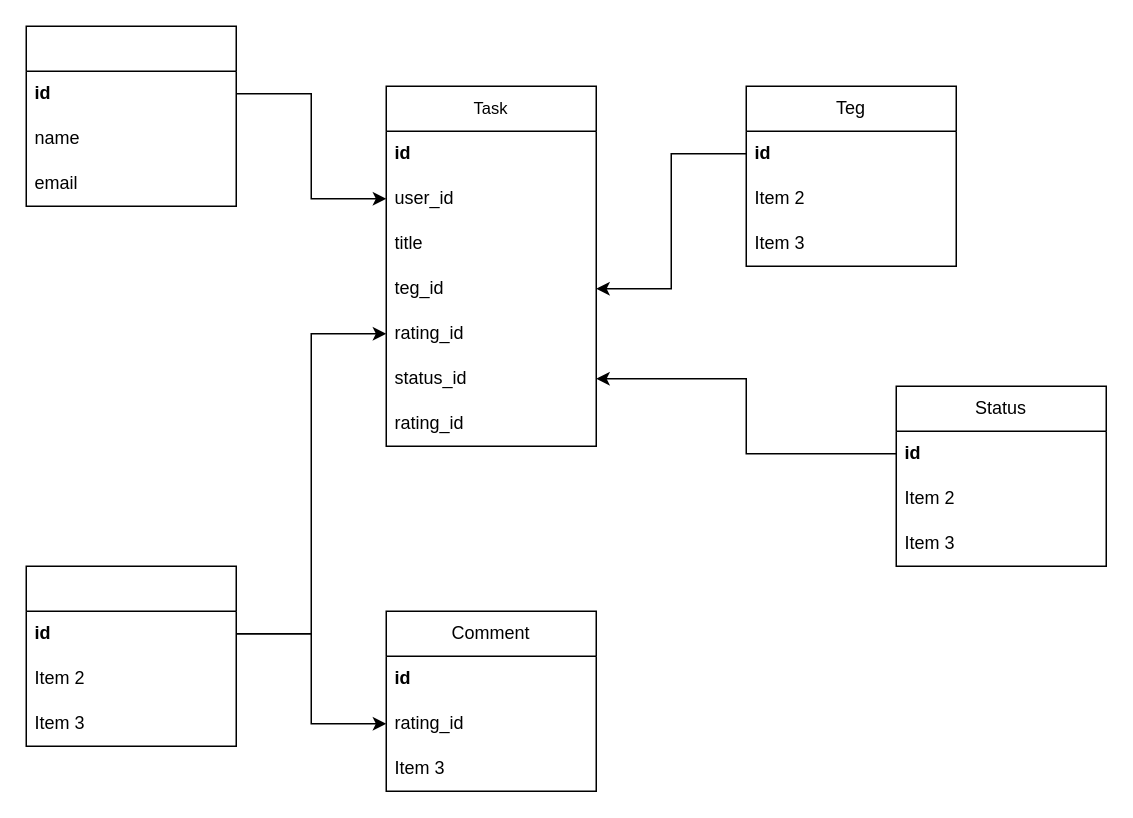
Some shapes in this 1133 by 818 pixel diagram are drawn without their labels. Here are the shapes that lost their labels. From the top down, the box of each, then its label:
(25, 25, 236, 206): User
(25, 565, 236, 746): Rating
